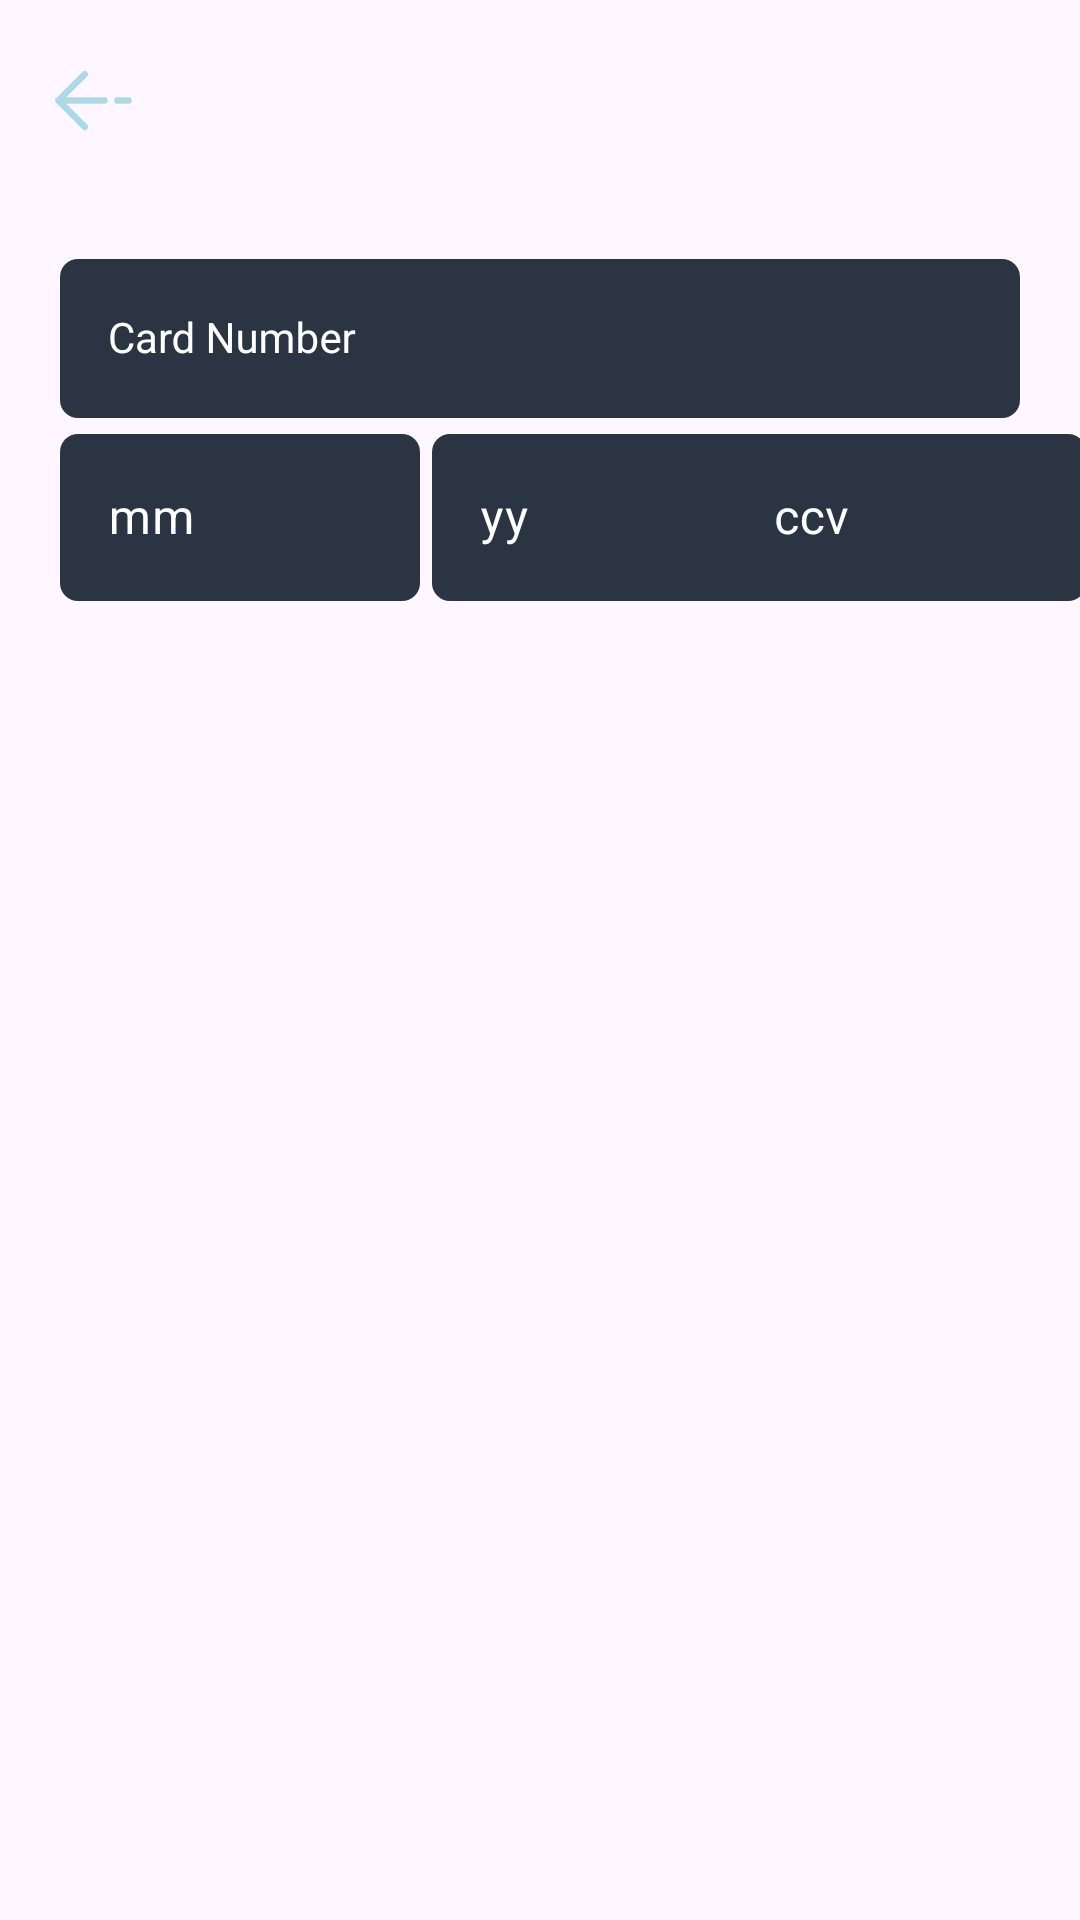

Named icons in this screenshot (1080px x 1920px) and their bounding boxes, Rect(x1, y1, x2, y2):
arrow back: Rect(55, 71, 132, 130)
